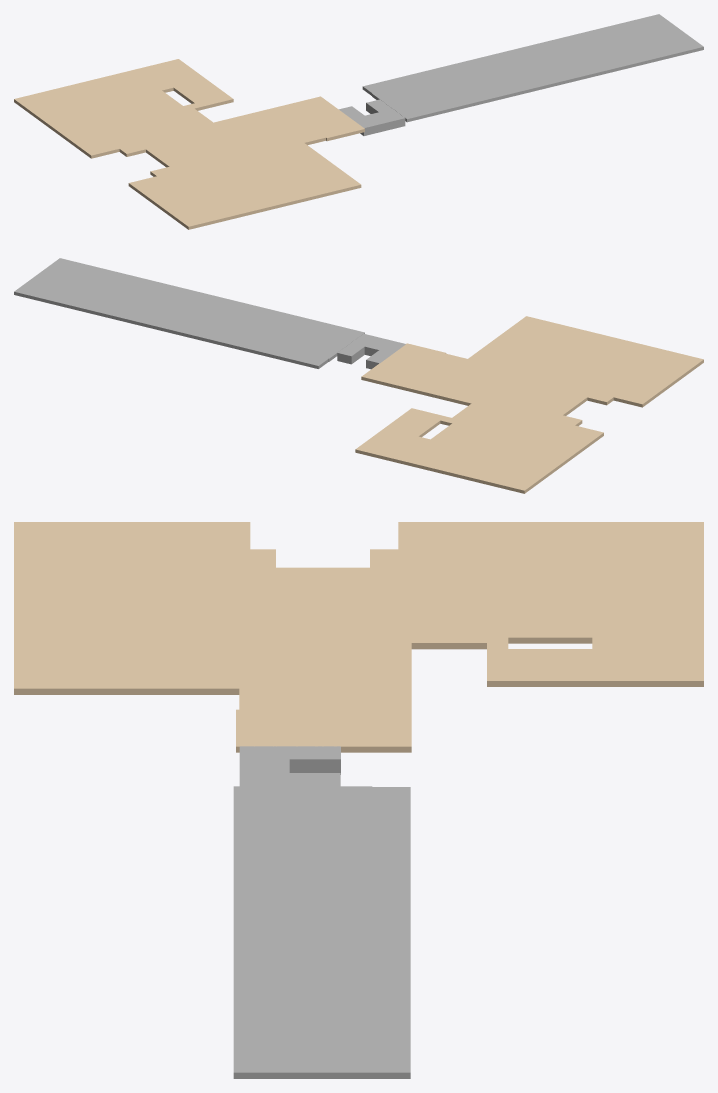
The picture shows the model from 3 angles, top to bottom: view 1: azimuth 30°, elevation 25°; view 2: azimuth 150°, elevation 25°; view 3: azimuth 270°, elevation 25°; orthographic projection. The views are drawn at different scales.
Bounding box in the file's own units: 252 × 3.35 × 134.
